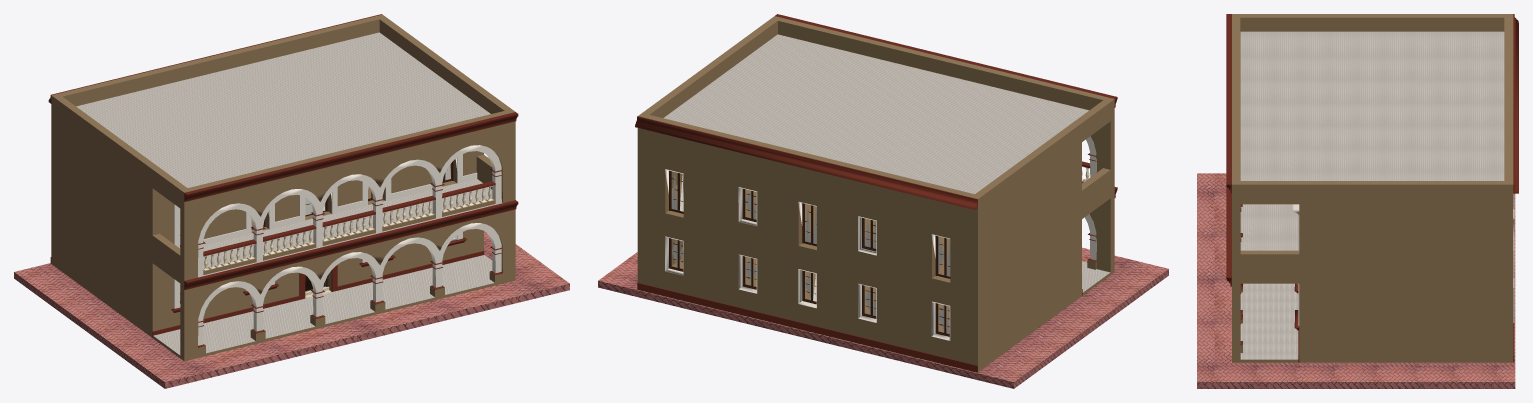
Rendered from portales_optim.obj.
3 views of the same model, side by side, from view 1: azimuth 30°, elevation 25°; view 2: azimuth 150°, elevation 25°; view 3: azimuth 270°, elevation 25° (orthographic). The views are drawn at different scales.
Visible parts, largest first — view 1: 3dSolid.519; view 2: 3dSolid.519; view 3: 3dSolid.519.
Part boxes in pixels (x1,y1,x2,y2): 3dSolid.519: [14, 14, 569, 388]; 3dSolid.519: [598, 14, 1168, 388]; 3dSolid.519: [1197, 14, 1518, 388].
Bounding box in the file's own units: 22.61 × 9.35 × 14.75.
